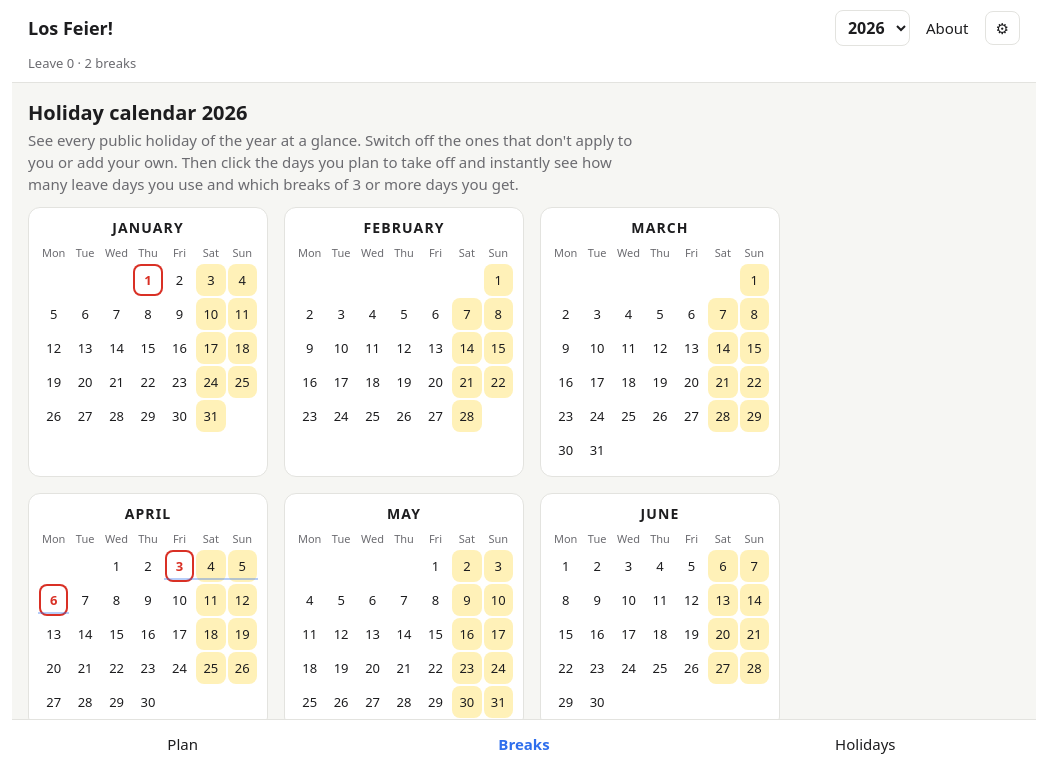
Scenario: App › choosing a year updates the hash
This screenshot has width=1048, height=768.
Select "2027" in the dropdown named "Year" at [872, 28], box x1=835 y1=10 x2=910 y2=46
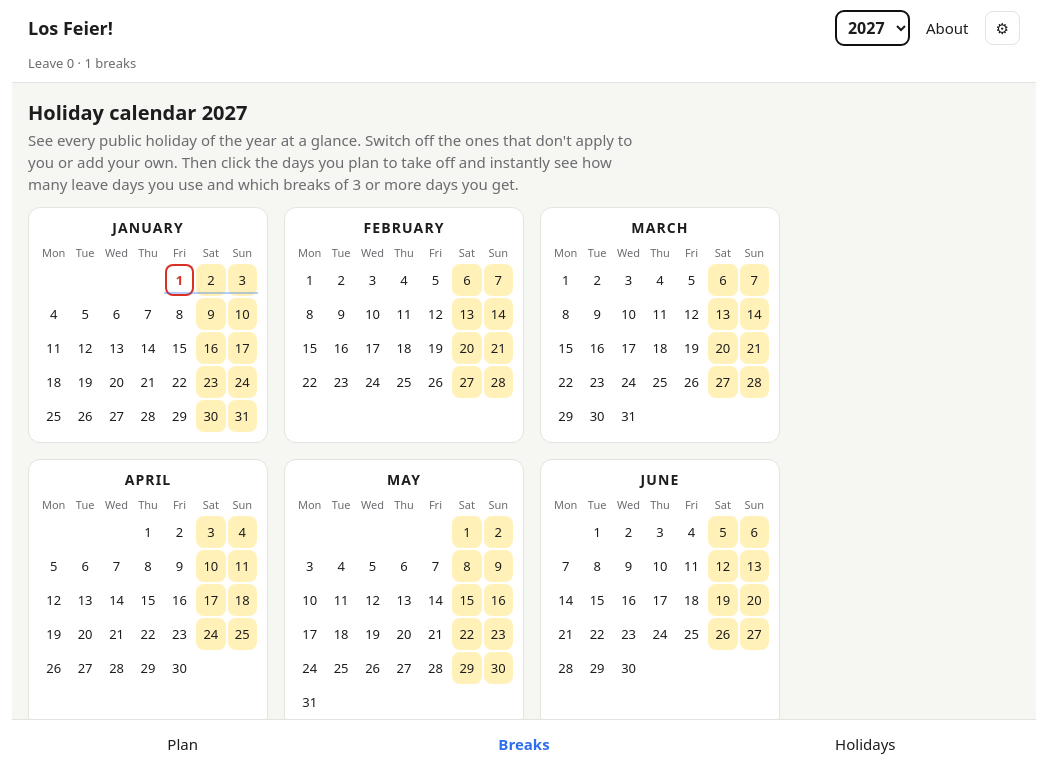
Result: the heading "Holiday calendar 2027" is shown at x1=28 y1=99 x2=247 y2=126
